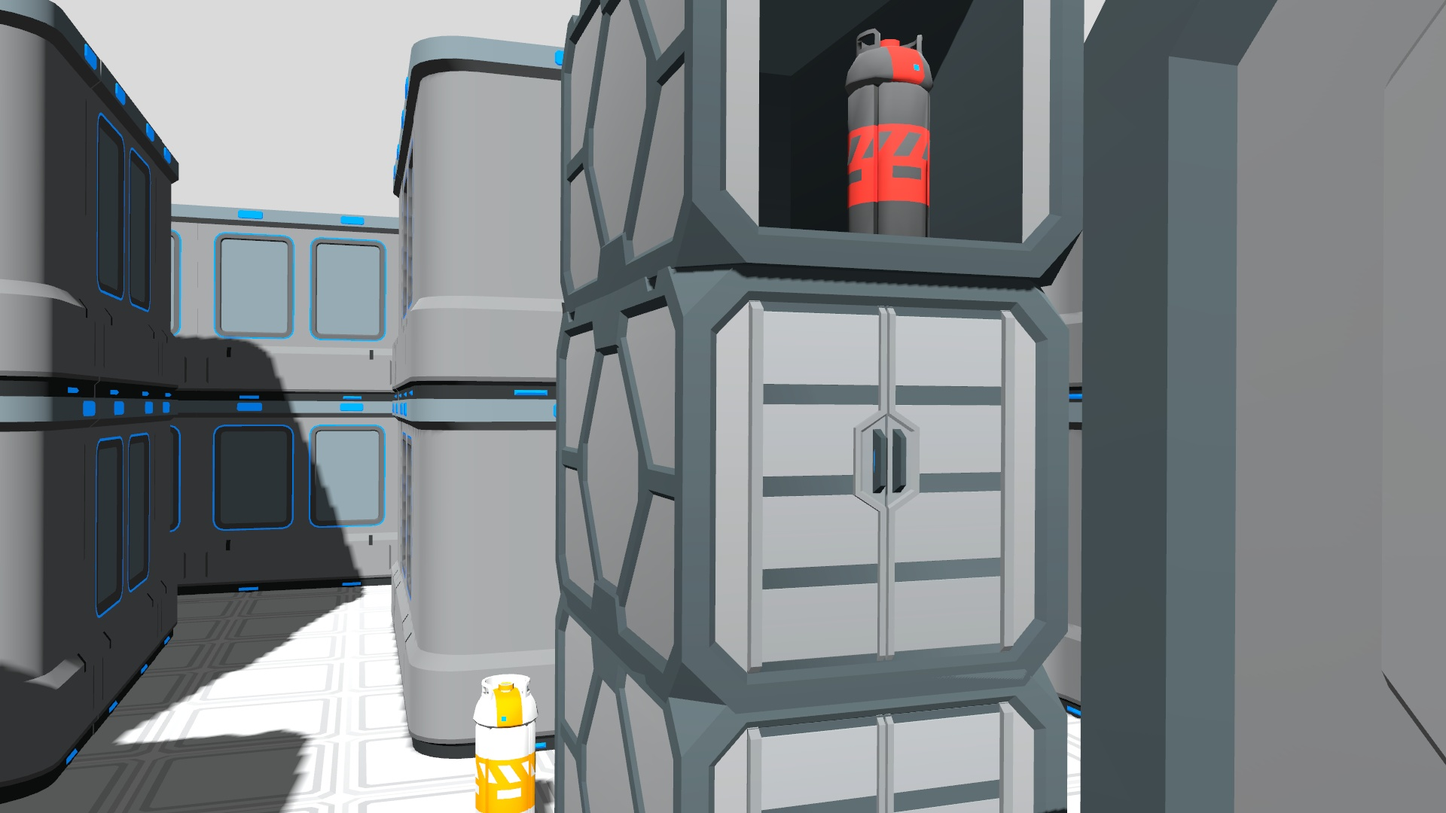red_barrel: (842, 27, 937, 245)
yellow_barrel: (468, 668, 545, 813)
